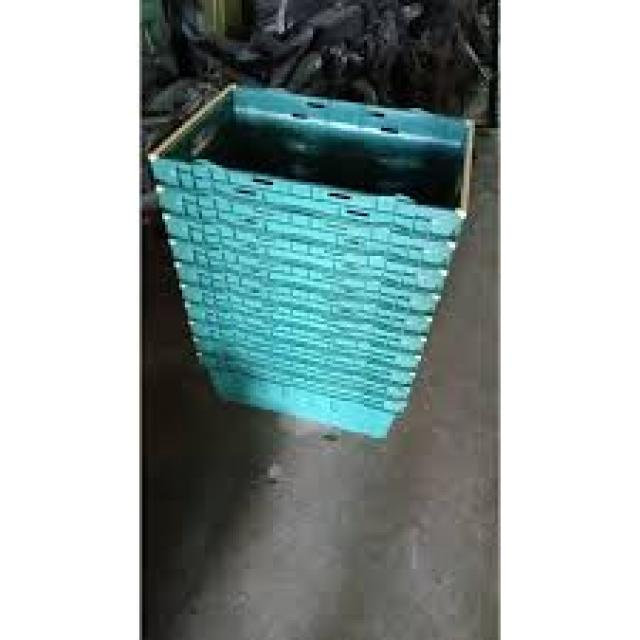basket: (105, 57, 487, 443)
